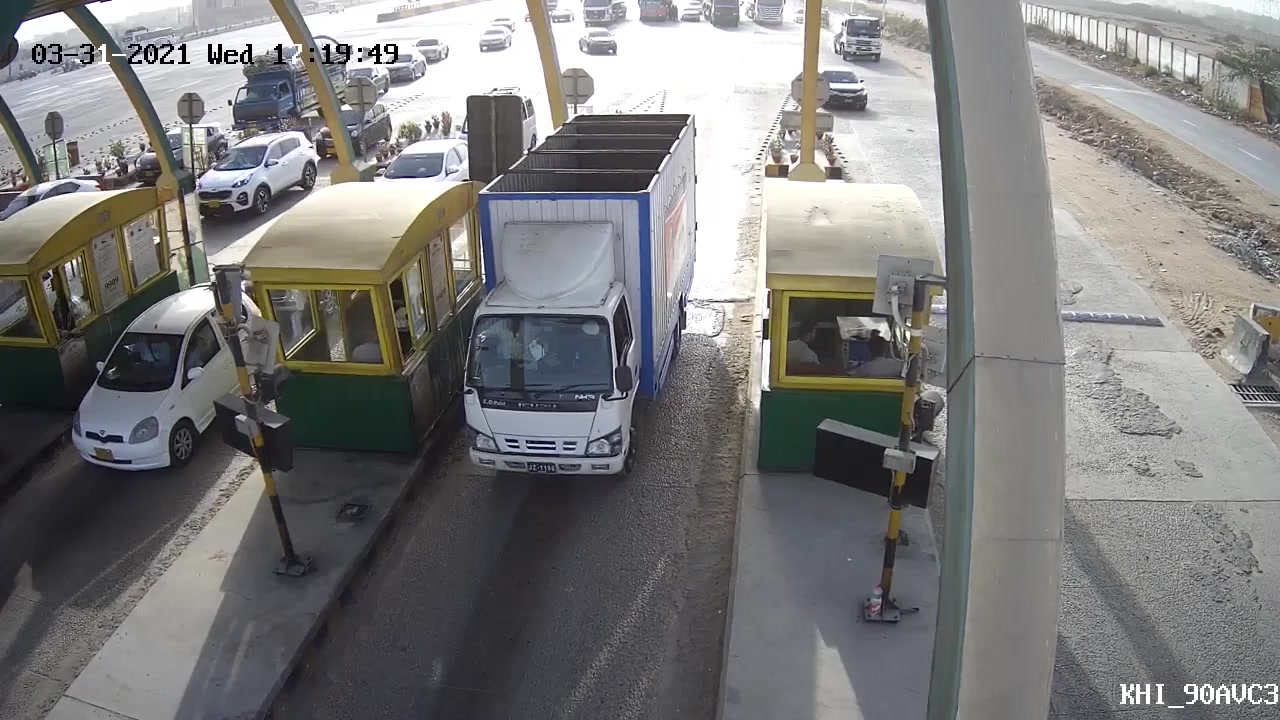F3: (434, 98, 714, 505)
